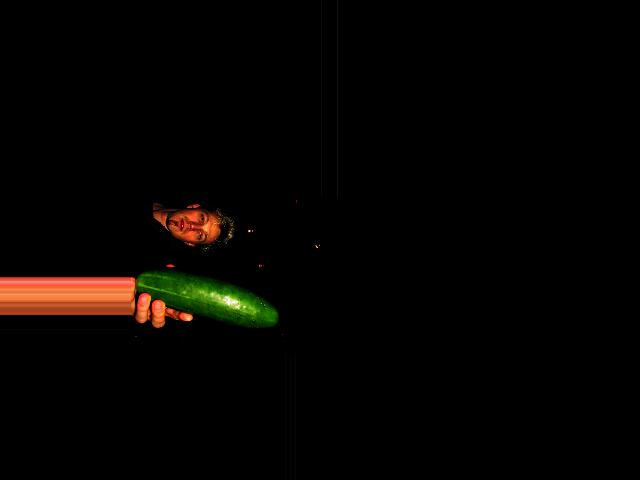cucumber: (136, 270, 278, 329)
